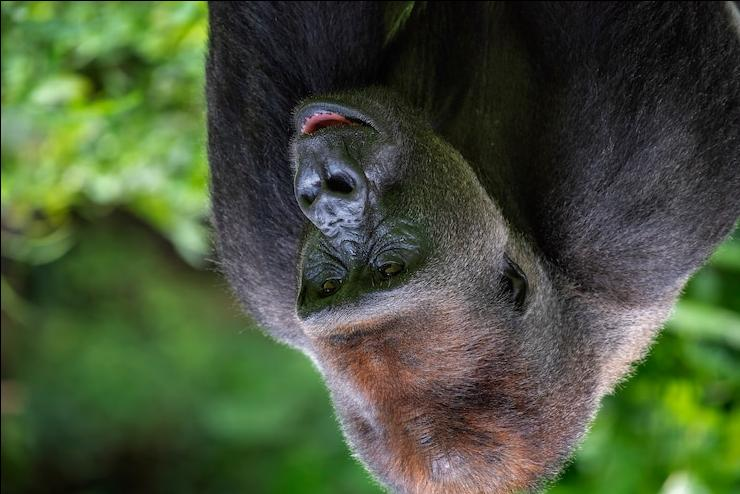gorille_Autres: (163, 0, 733, 492)
